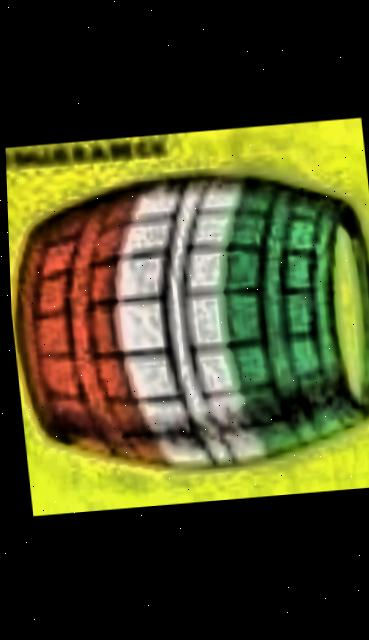El Barril: (4, 121, 369, 516)
